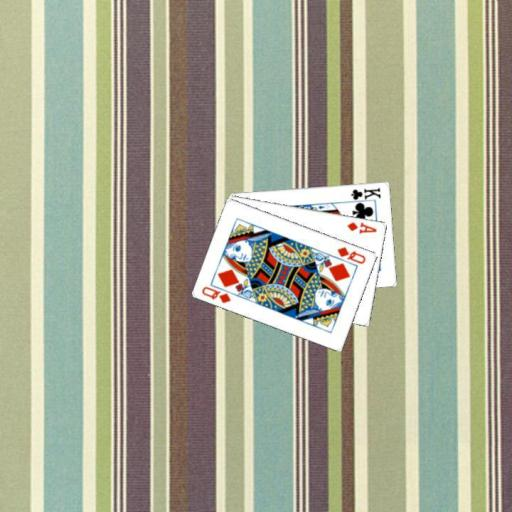AD: (344, 219, 378, 235)
KC: (345, 184, 382, 204)
QD: (334, 243, 368, 265), (199, 283, 233, 304)
